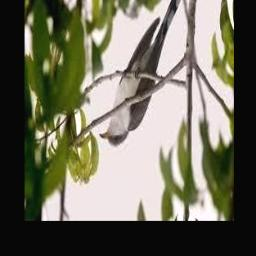Cuckoo: (99, 0, 186, 148)
